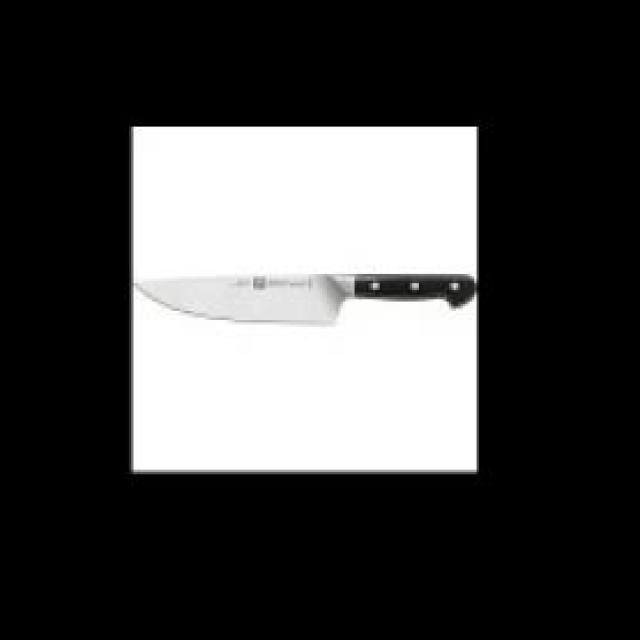knife: (134, 262, 480, 330)
